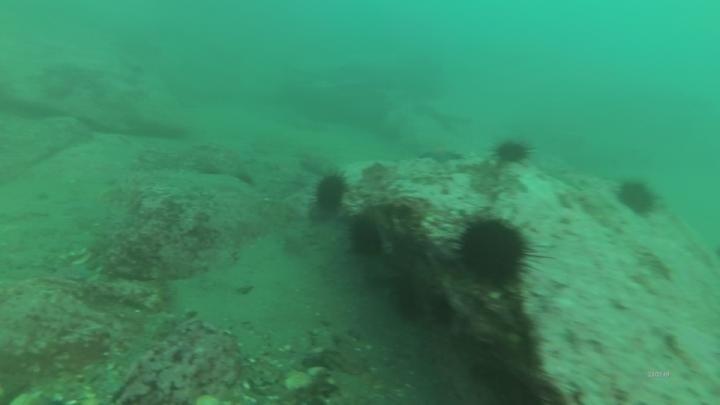echinus: (452, 212, 537, 292), (614, 176, 661, 219), (345, 215, 386, 260), (311, 170, 350, 216), (492, 136, 533, 167)
starfish: (416, 141, 465, 166)
